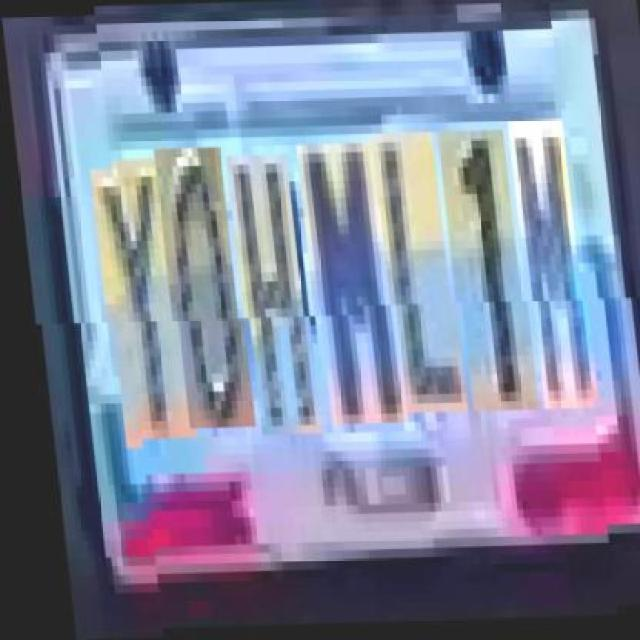1: (439, 133, 530, 415)
h: (228, 155, 312, 437)
l: (374, 135, 458, 416)
m: (297, 145, 398, 426), (509, 122, 589, 413)
o: (156, 148, 247, 430)
y: (91, 158, 186, 440)
